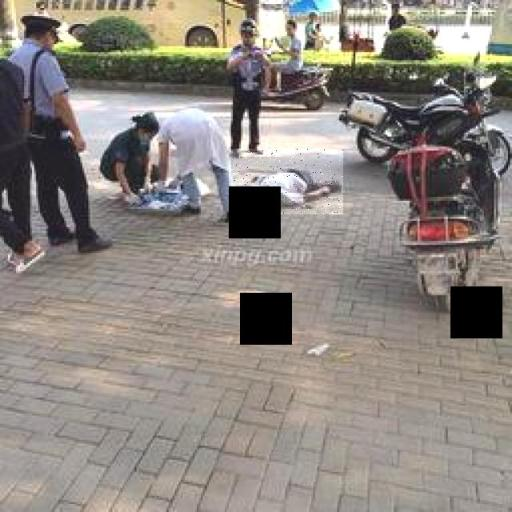Fall: (229, 149, 343, 214)
